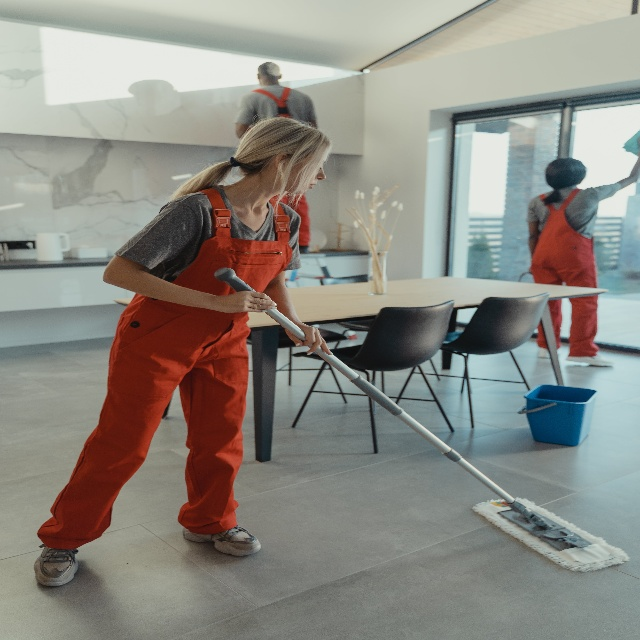Sin_guantes: (284, 316, 332, 356), (220, 290, 278, 314)
